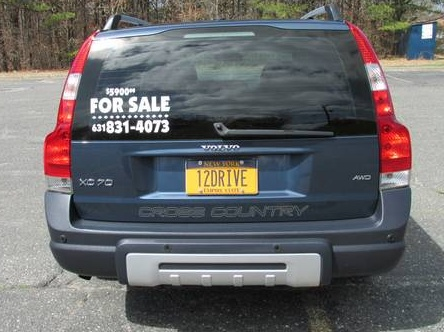volvo: (28, 7, 424, 297)
